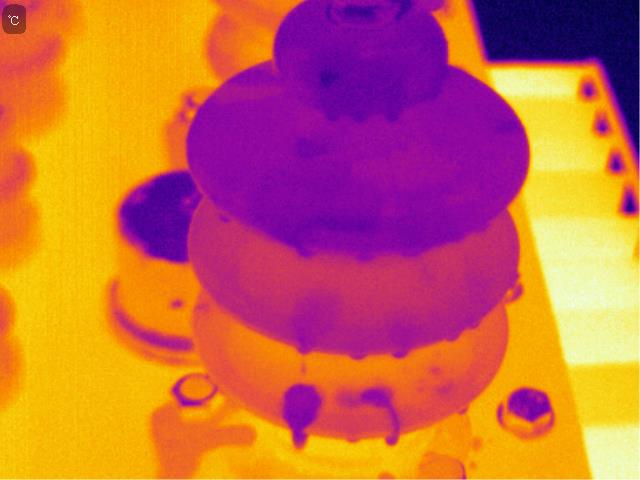Water: (281, 380, 324, 455), (360, 387, 403, 448), (303, 216, 377, 235), (293, 136, 326, 159), (315, 67, 345, 90), (401, 238, 426, 261), (498, 115, 521, 138), (292, 241, 318, 260), (436, 377, 457, 394), (354, 247, 374, 264), (383, 109, 401, 127), (352, 108, 370, 123), (323, 107, 341, 122), (297, 344, 314, 359), (466, 316, 480, 333), (455, 402, 472, 416), (445, 329, 461, 343), (425, 364, 444, 375), (391, 348, 405, 361), (345, 352, 370, 358)
